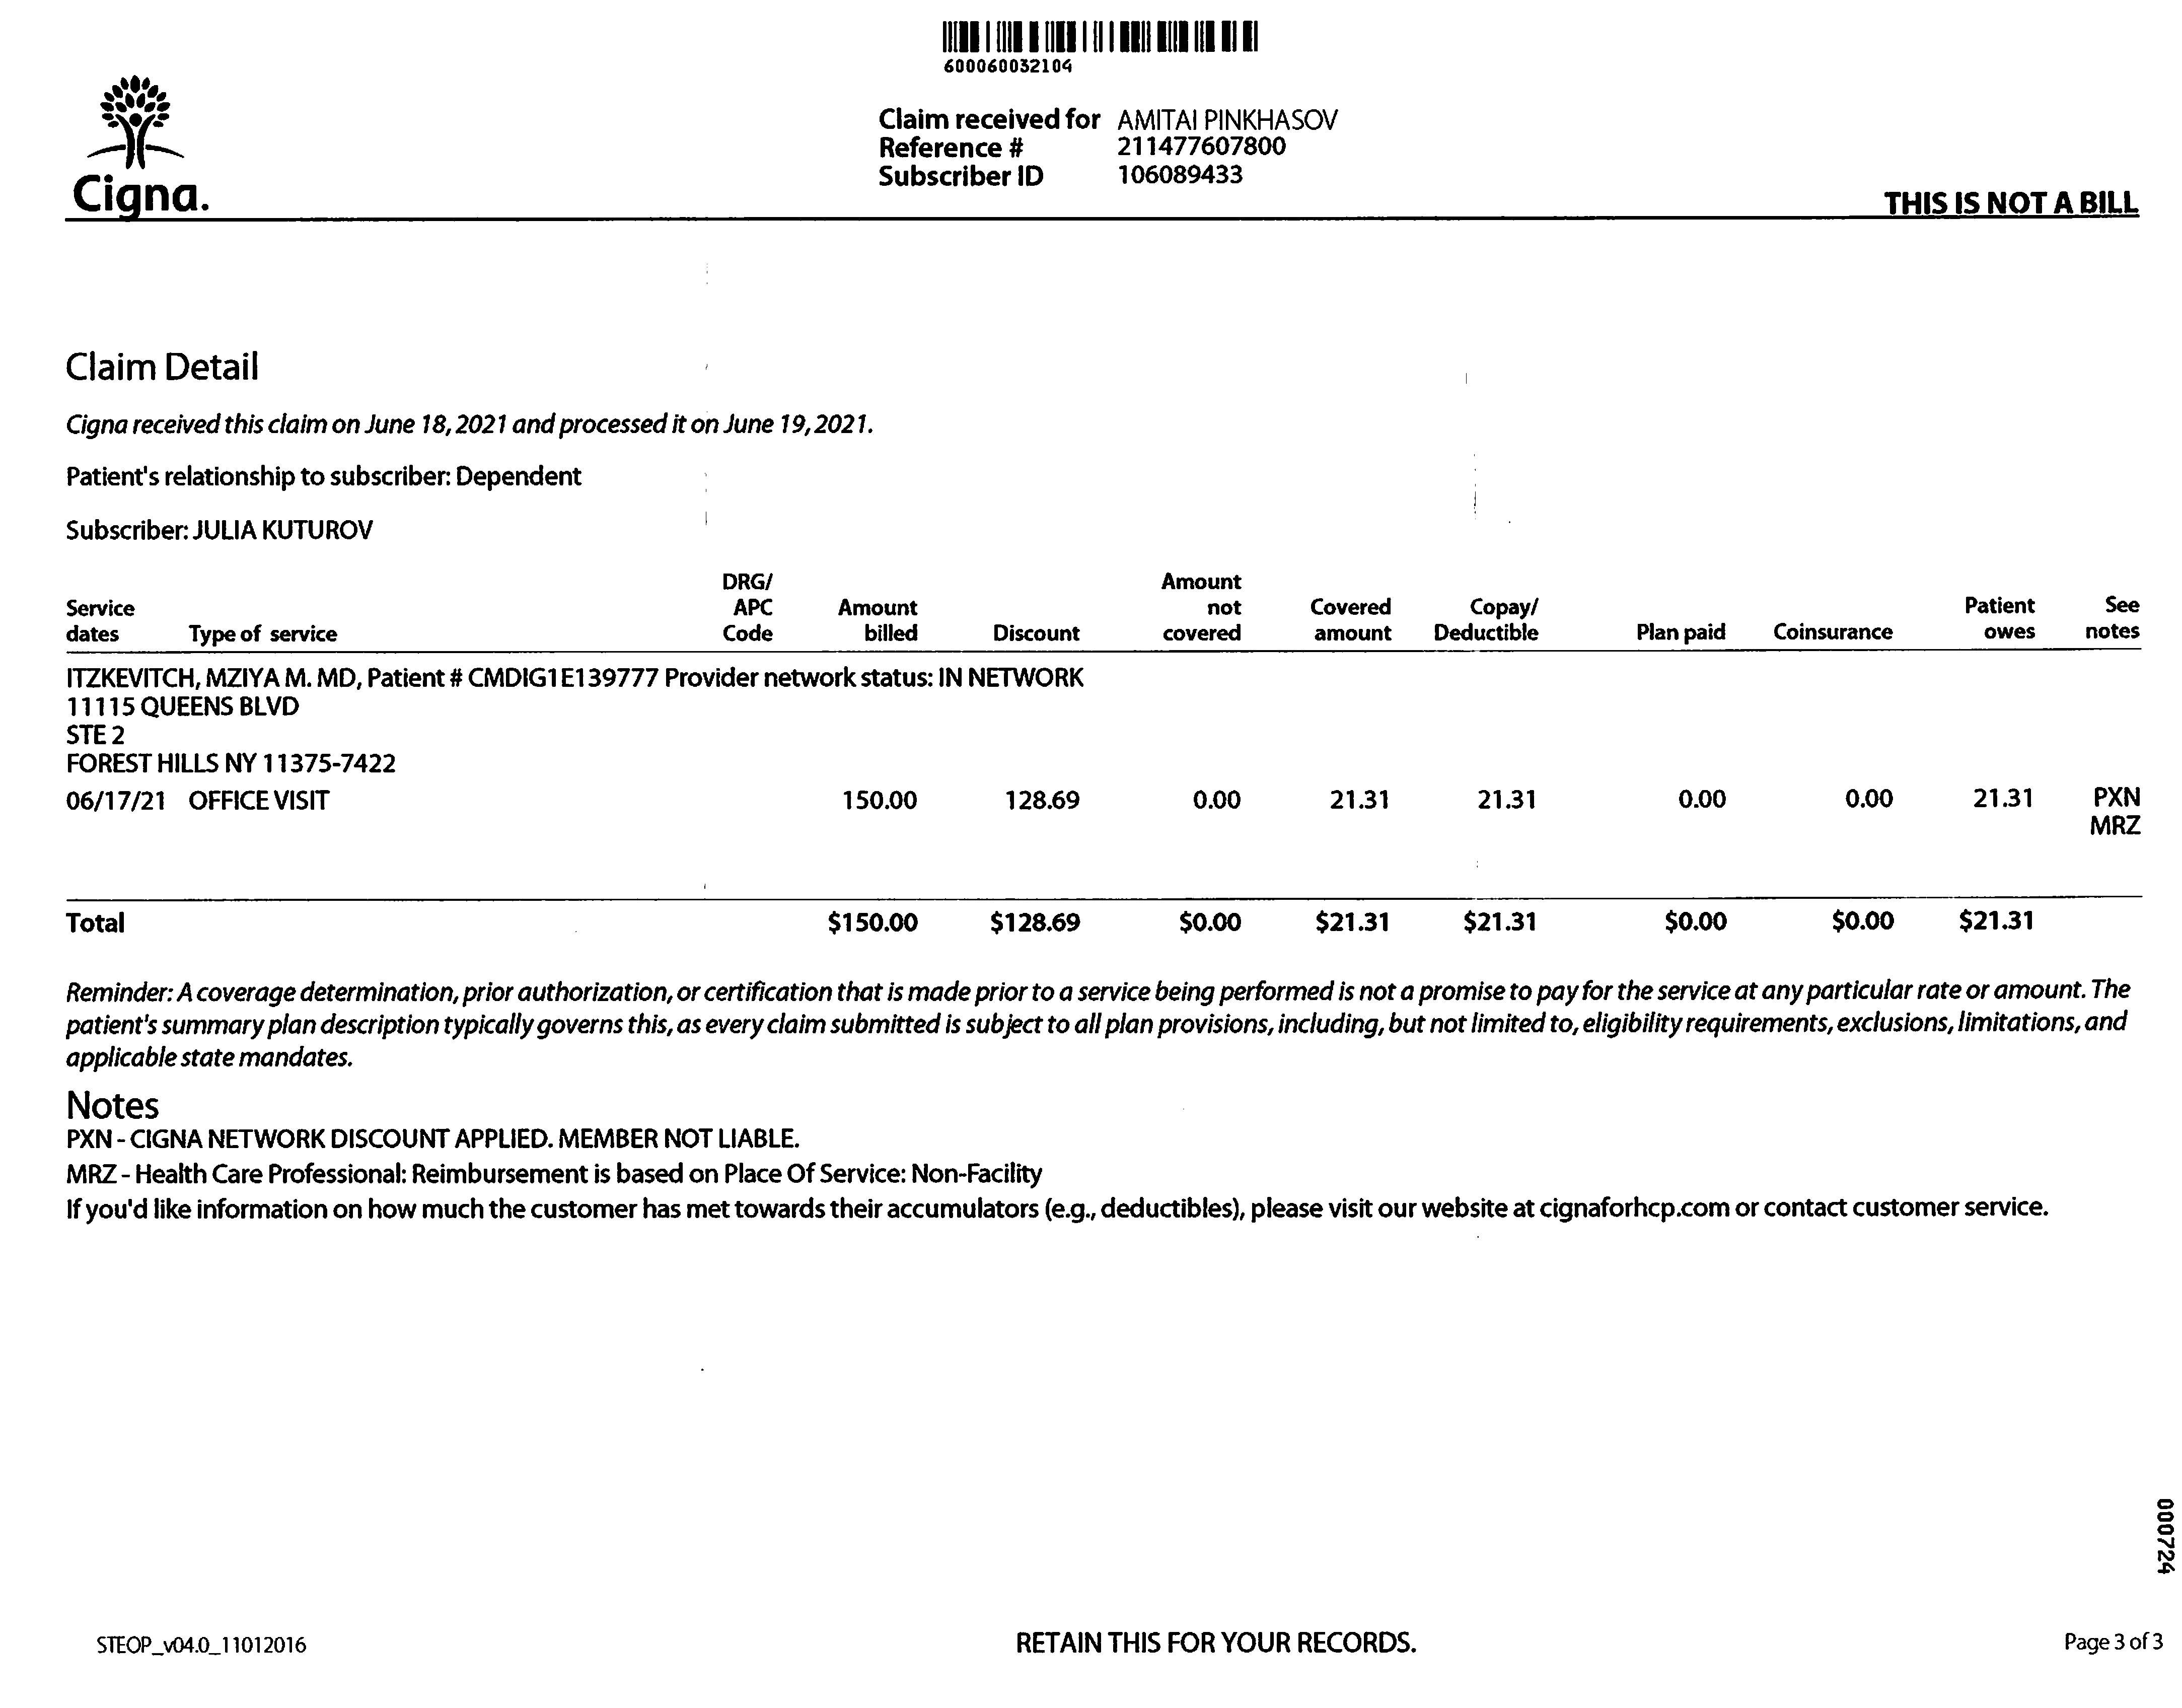data: (859, 87, 1360, 209)
table: (53, 556, 2163, 943)
